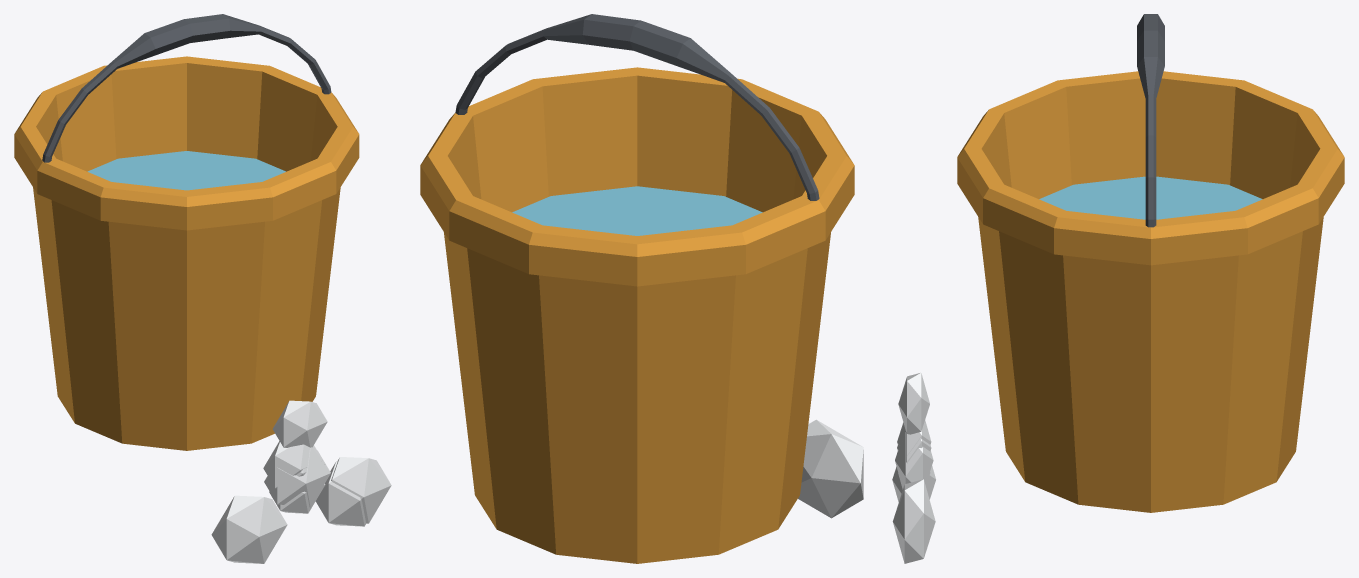
File: Bucket.fbx
3 renders of one model, left to right at view 1: azimuth 30°, elevation 25°; view 2: azimuth 150°, elevation 25°; view 3: azimuth 270°, elevation 25°, orthographic. The views are drawn at different scales.
Visible parts, largest first — view 1: Bucket, Foam, Handle, Water; view 2: Bucket, Handle, Water, Foam; view 3: Bucket, Water, Foam, Handle.
Part boxes in pixels (x1,y1,x2,y2): Bucket: (14,56,359,450); Foam: (211,400,391,563); Handle: (42,14,331,162); Water: (87,151,285,190); Bucket: (420,67,854,563); Handle: (455,14,819,200); Water: (512,186,762,235); Foam: (798,419,863,518); Bucket: (957,71,1344,512); Water: (1039,176,1262,219); Foam: (892,373,935,563); Handle: (1137,14,1164,227).
Size of the model in its own units: 0.334 by 0.4851 by 0.3899.
